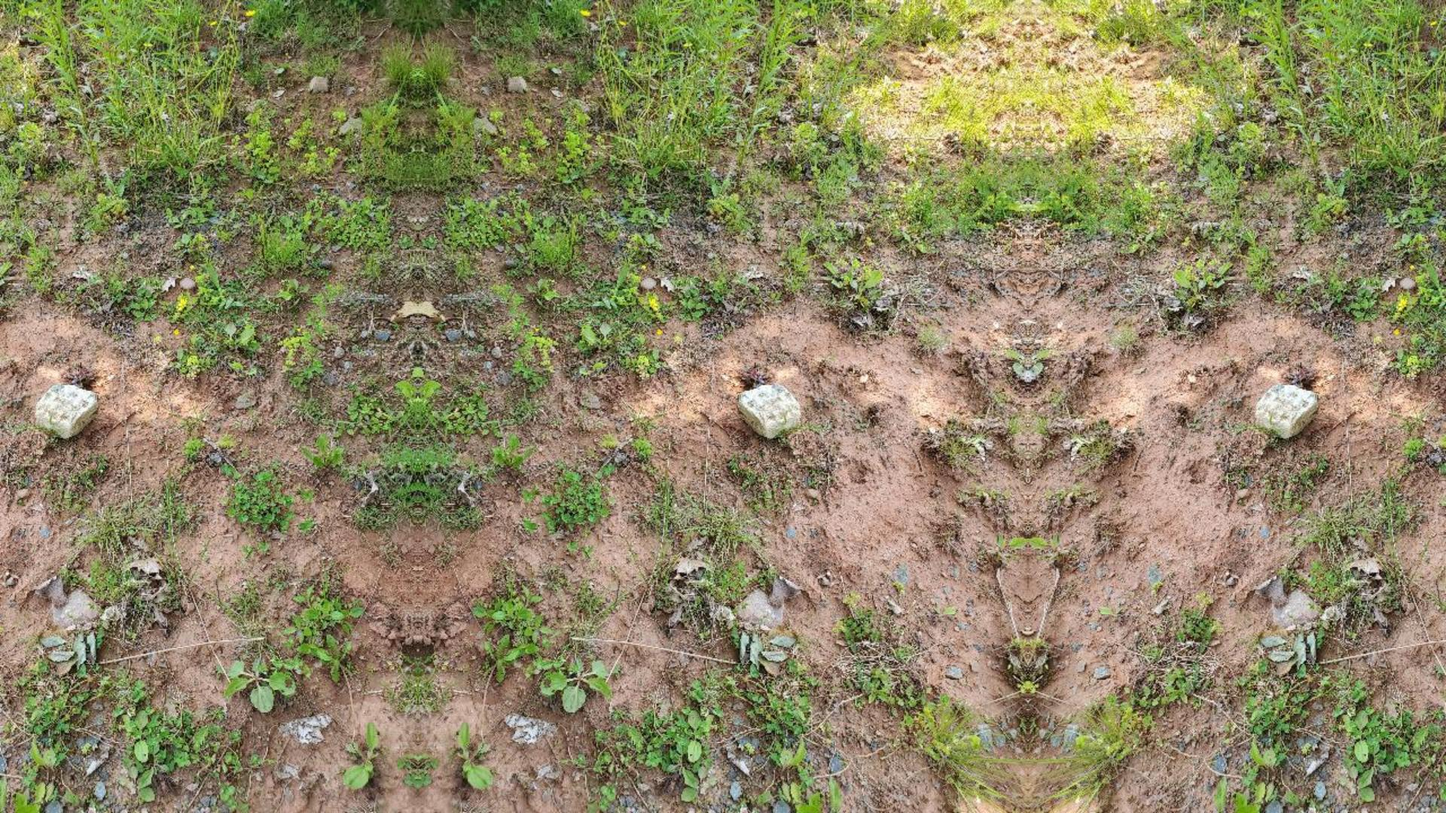rock: (1254, 383, 1317, 438), (738, 384, 801, 438), (35, 384, 97, 438)
